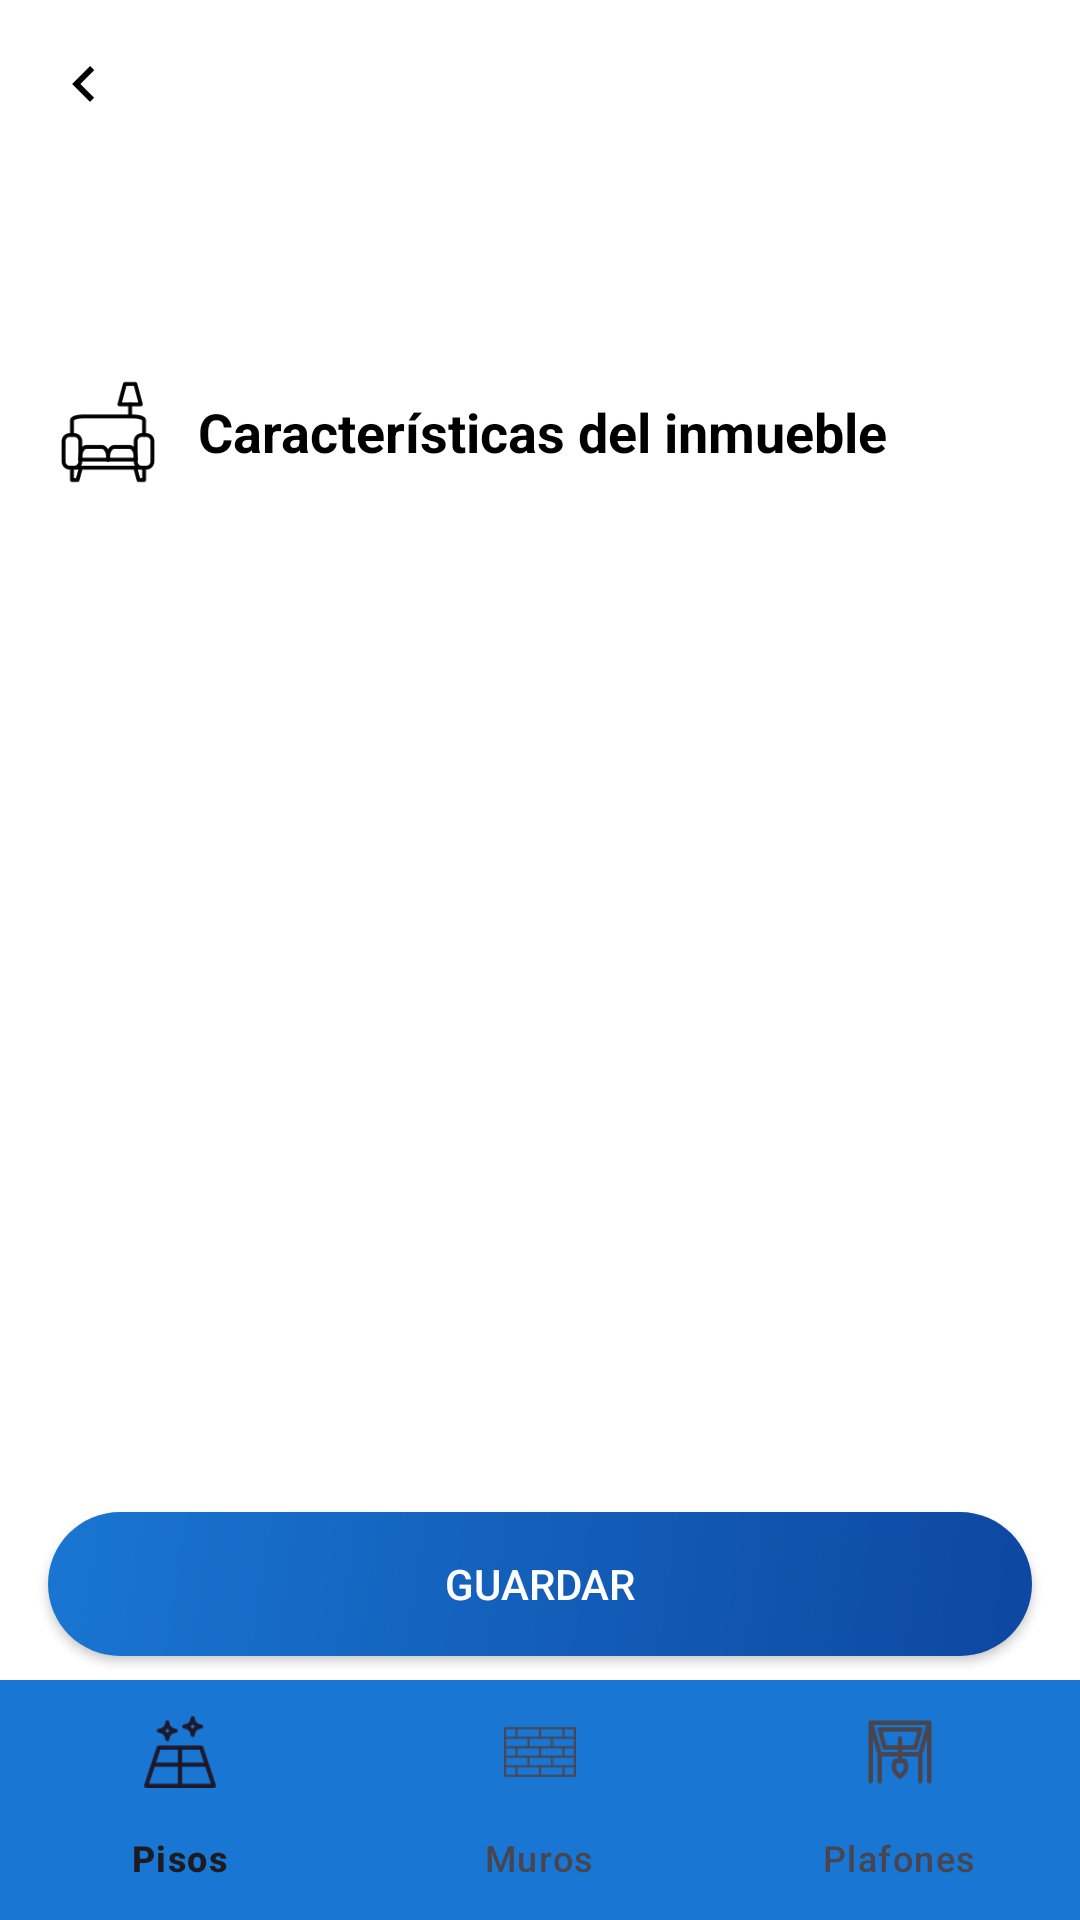

Screen size 1080px x 1920px. Icon name, then its center in pixels as [x,y]:
Regresar: [83,84]
sala: [108,432]
